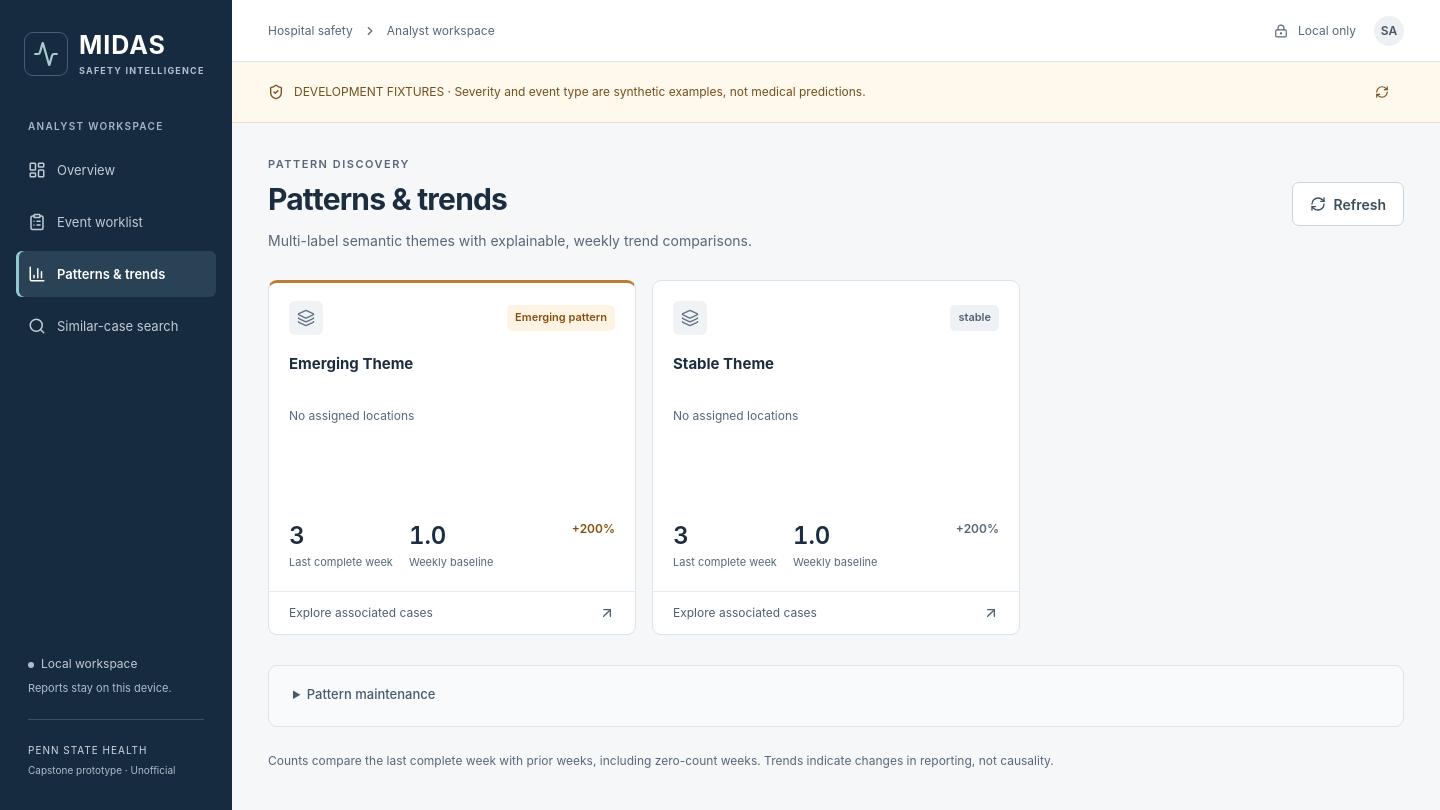
it: analyst UX regression checks › keeps maintenance collapsed and removes the outdated queued notice on refresh
Click the heading "Pattern maintenance": (371, 694) [307,686,435,702]
(page scrolled)
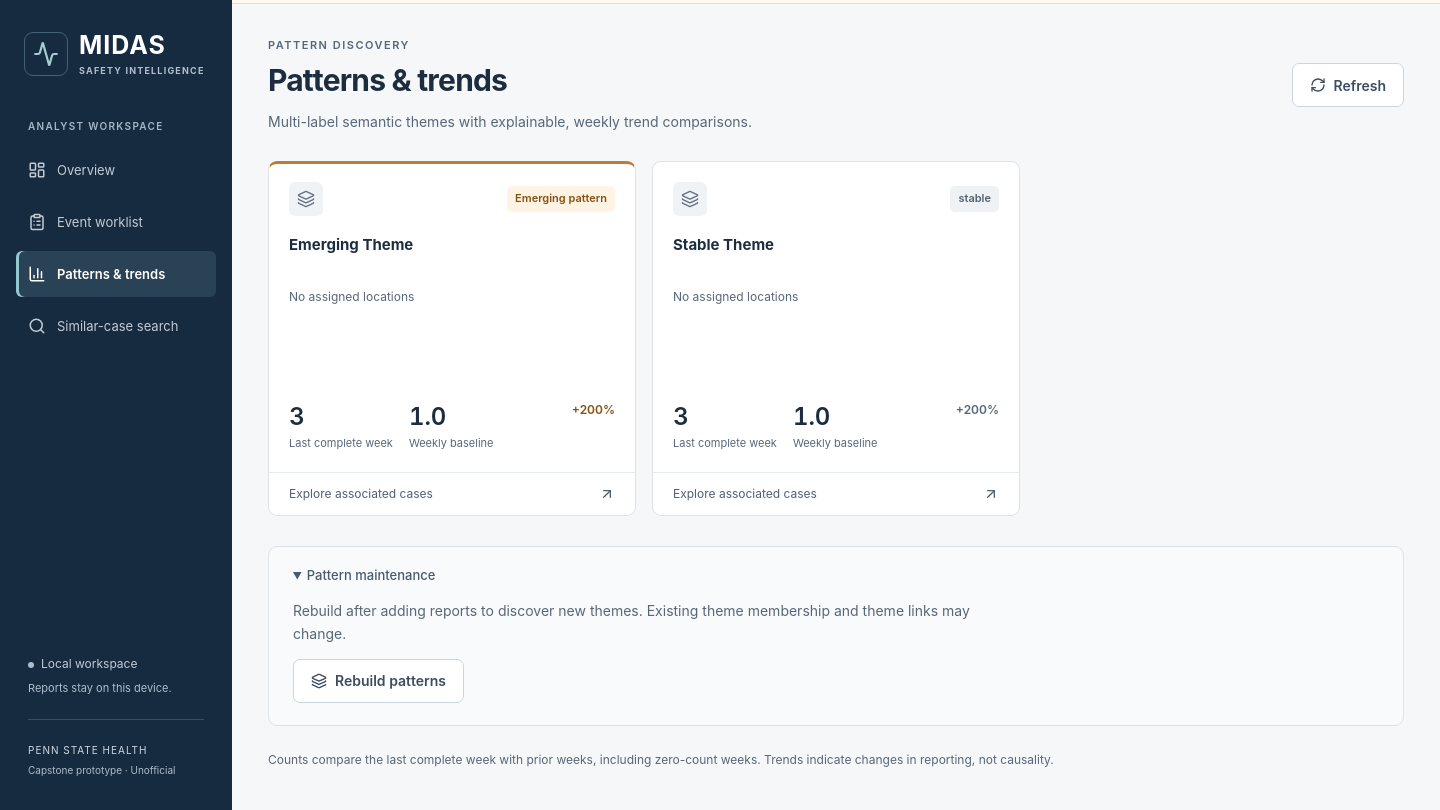
Click the button "Rebuild patterns": (378, 681) [293,659,464,703]
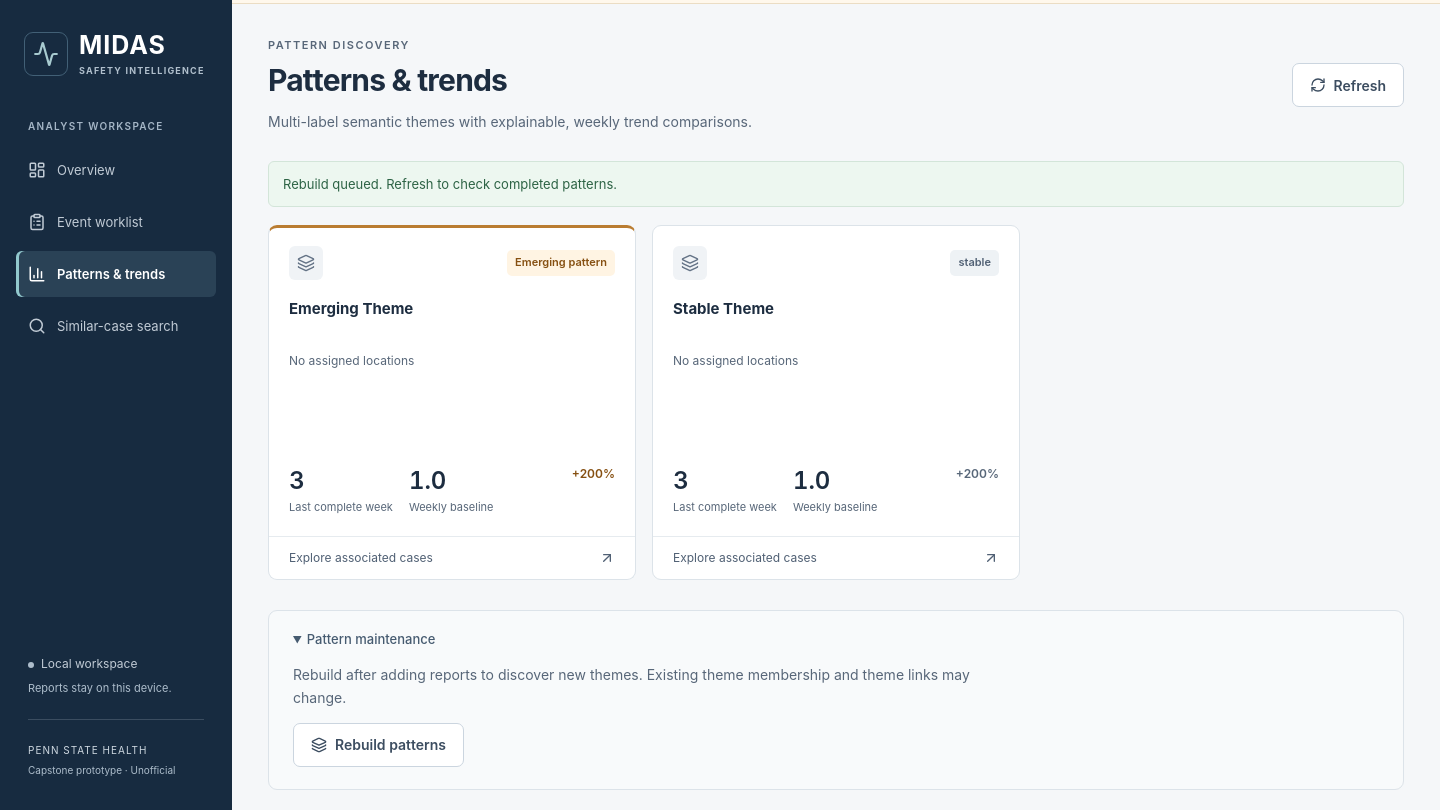
Result: the text "Rebuild queued. Refresh to check completed patterns." is shown at [268,161,1404,207]
Click the button "Refresh": (1348, 85) [1292,63,1404,107]
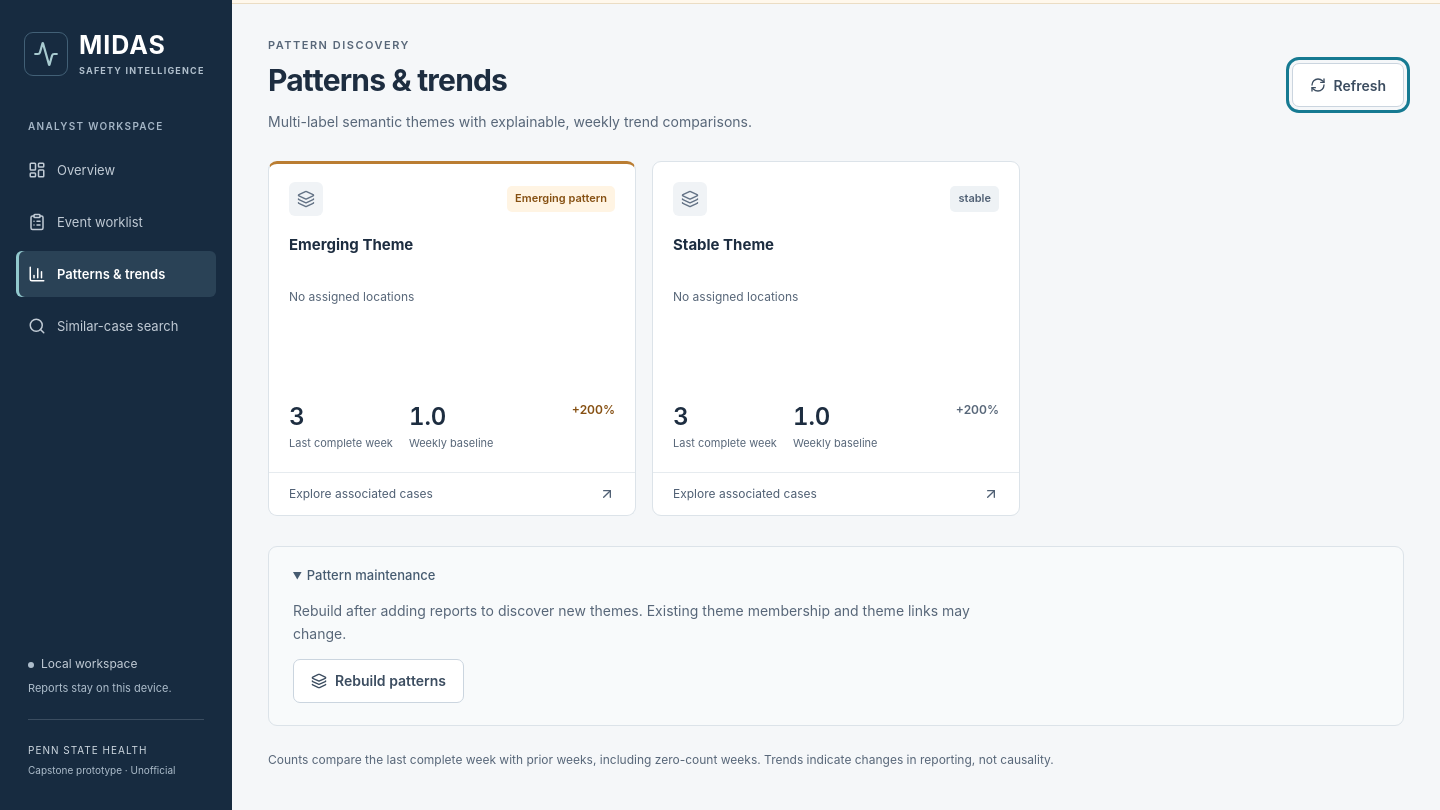
Result: the text "Rebuild queued. Refresh to check completed patterns." is gone
